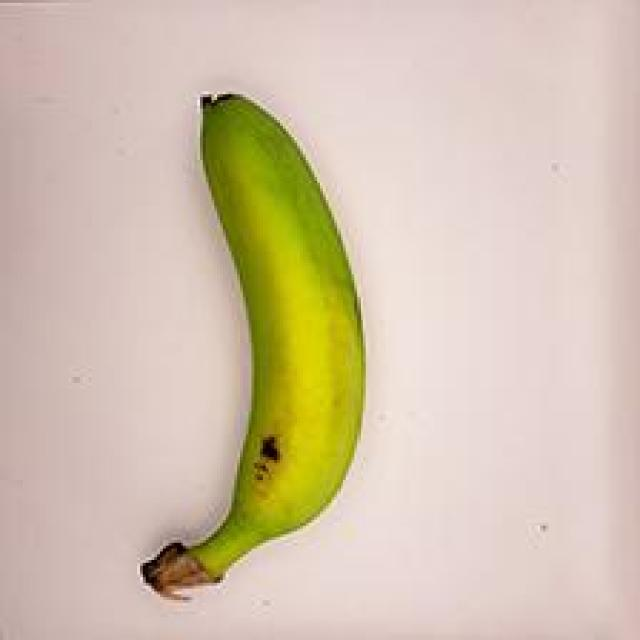Unripe: (86, 59, 393, 612)
